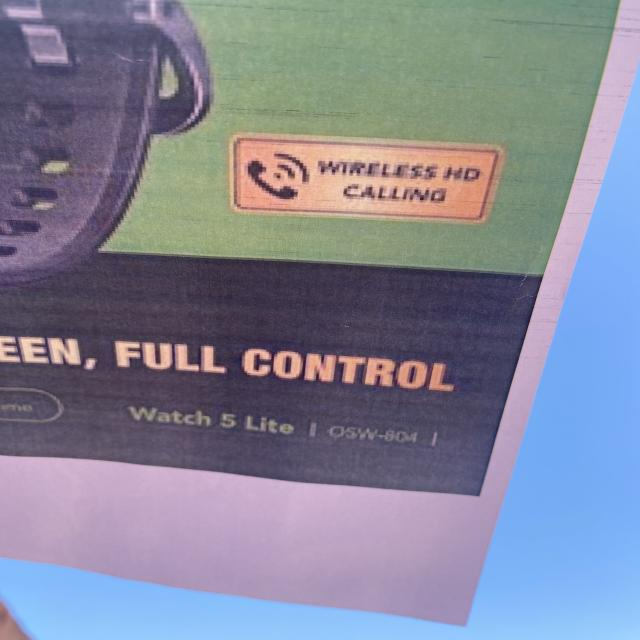Watch 5 Lite OSW-804: (121, 398, 447, 449)
